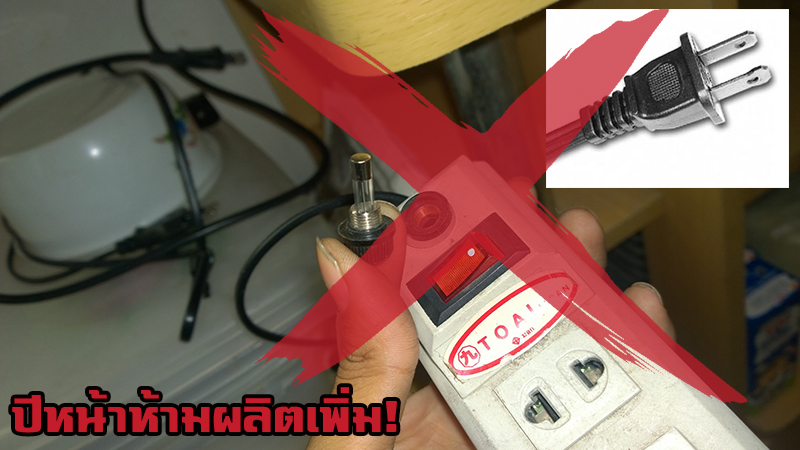Three_eye_plug: (364, 157, 782, 450)
